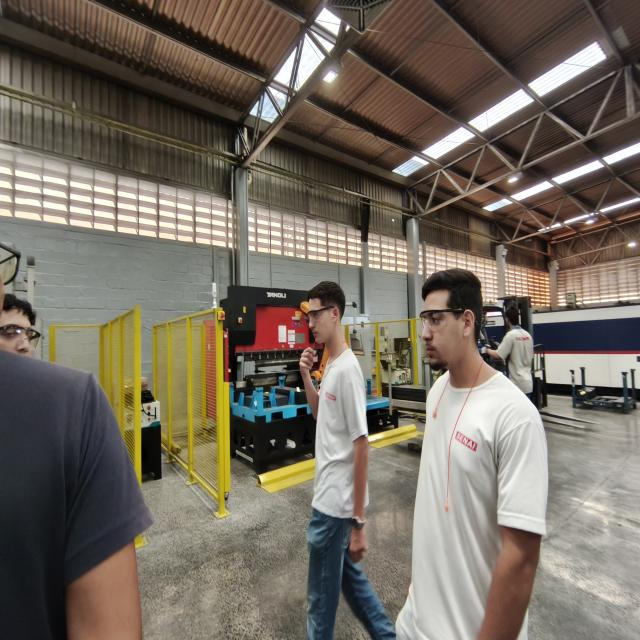oculos-epi: (419, 308, 466, 331), (304, 307, 335, 321)
